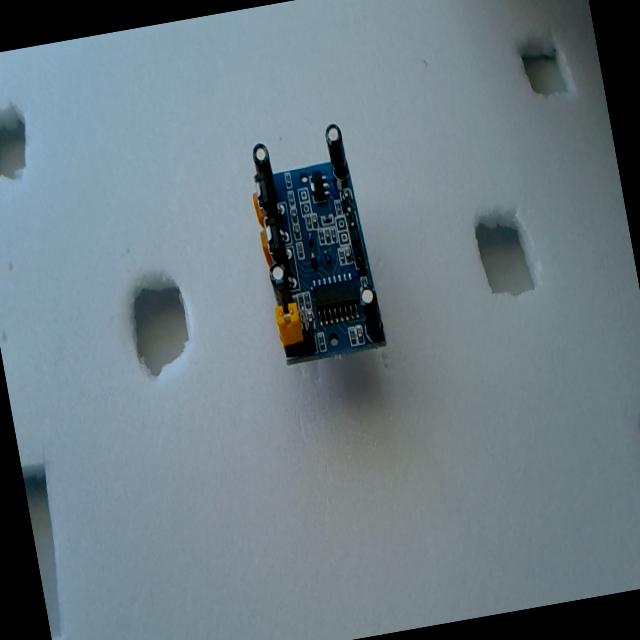Electrolytic capacitor: (322, 121, 350, 182), (358, 286, 386, 343), (250, 142, 276, 198), (268, 264, 292, 312)
IC: (312, 278, 362, 326)
pinheader: (335, 183, 369, 271)
